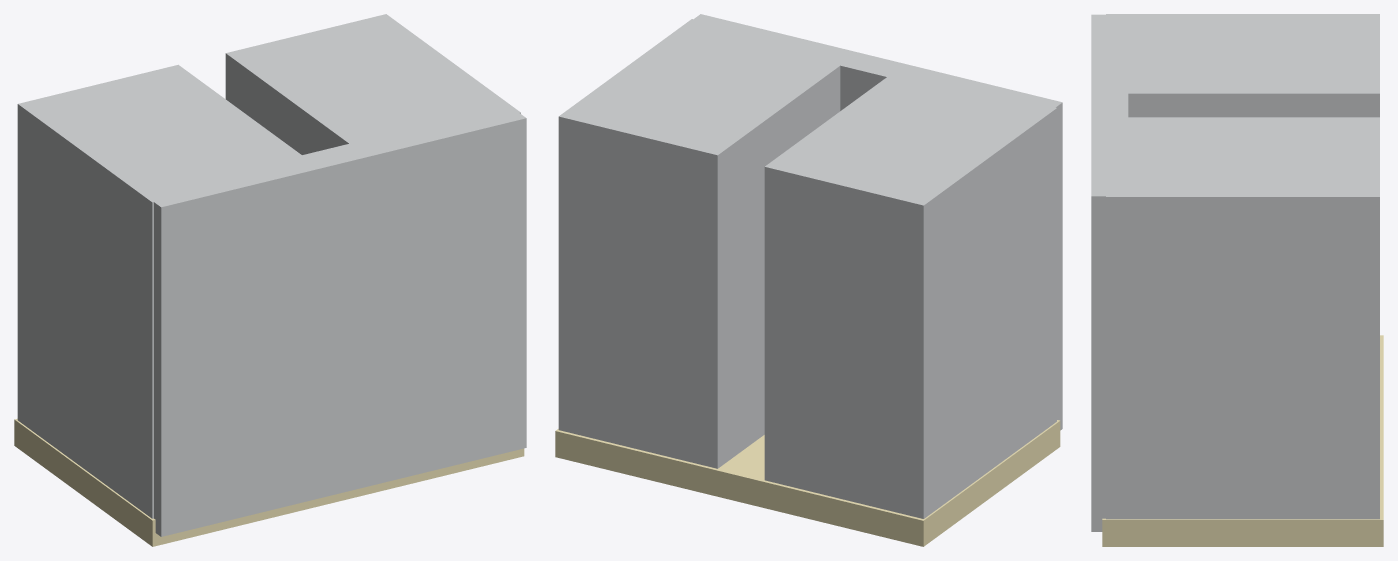
The model's file is rei_elfo_saia.glb.
3 renders of one model, left to right at view 1: azimuth 30°, elevation 25°; view 2: azimuth 150°, elevation 25°; view 3: azimuth 270°, elevation 25°, orthographic. The views are drawn at different scales.
Parts seen in each view (by area): view 1: rei_elfo_saia; view 2: rei_elfo_saia; view 3: rei_elfo_saia.
Boxes of the visible parts, x1=… form: rei_elfo_saia: x1=14, y1=14, x2=526, y2=546; rei_elfo_saia: x1=555, y1=14, x2=1062, y2=546; rei_elfo_saia: x1=1091, y1=14, x2=1383, y2=546.
Size of the model in its own units: 0.59 by 0.52 by 0.395.
